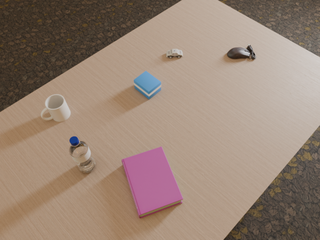book: (122, 147, 183, 218)
bottle: (69, 136, 96, 173)
box: (134, 71, 161, 99)
cup: (41, 94, 70, 122)
mouse: (227, 44, 256, 59)
toy_car: (167, 49, 183, 58)
